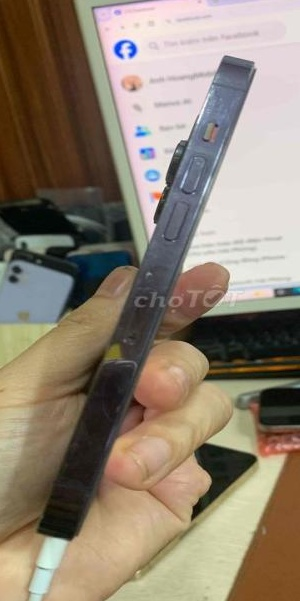scratch: (178, 69, 254, 153), (102, 388, 147, 443), (128, 254, 159, 305)
